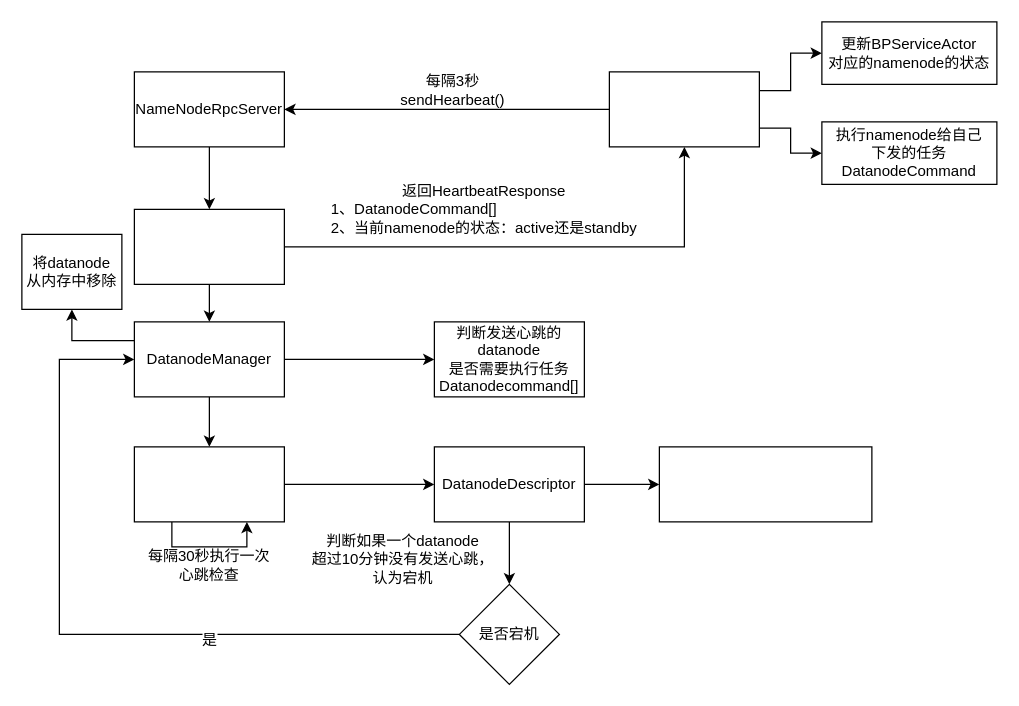
The diagram is 1019 pixels wide and 706 high, and some of its shapes have lost their labels. The shapes that lost their labels are listed below. From the top down, each one's centre as x and y in pixels, then its label:
the point at 683,109: datanode
the point at 208,246: FSNamesysten
the point at 208,484: HeartbeatManager
the point at 765,484: 处理心跳 1、更新磁盘使用数据 2、更新最近一次心跳的时间
